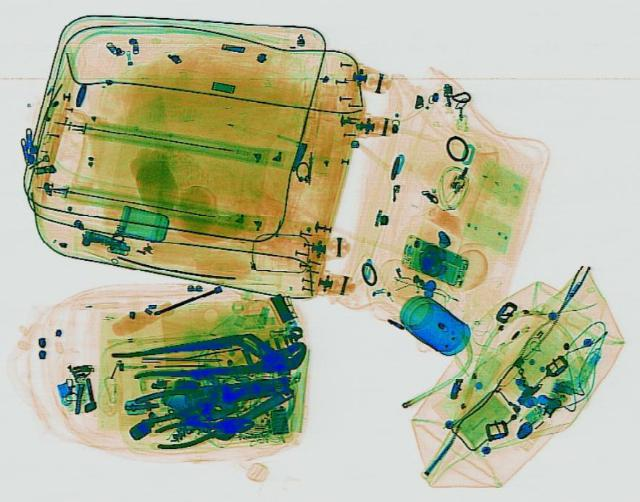Pliers: (130, 374, 250, 421), (152, 410, 256, 449)
Wrench: (200, 378, 300, 442)
